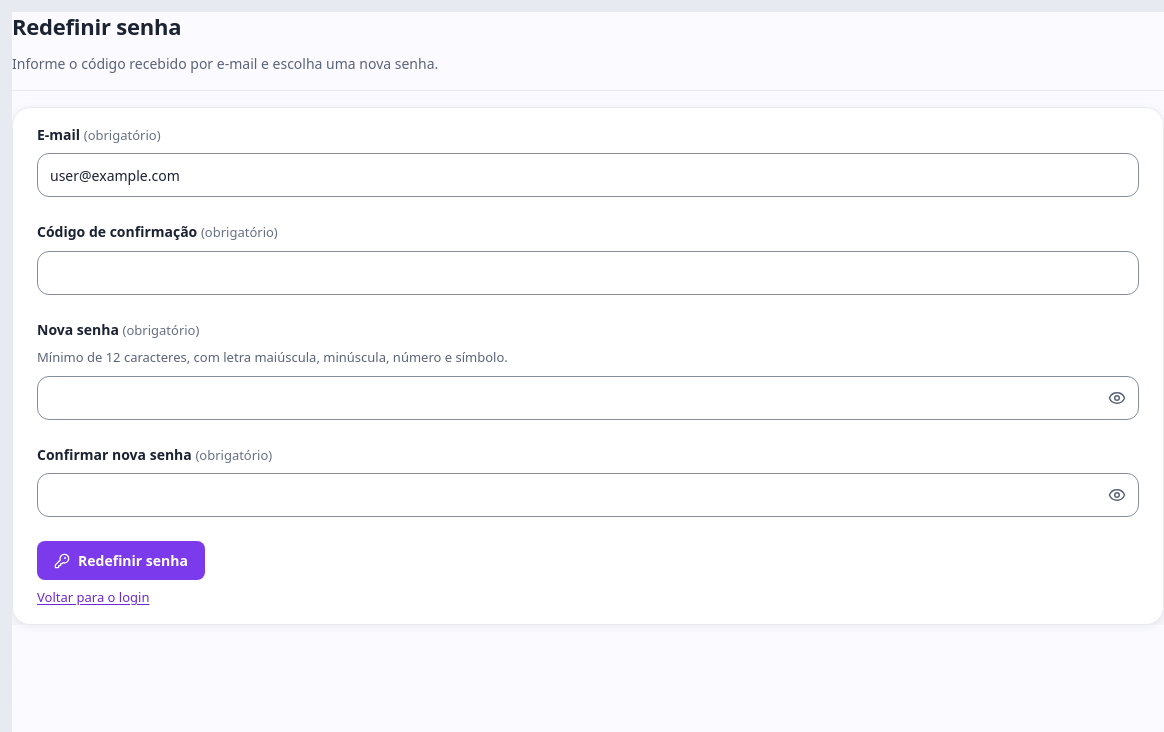
Test: ResetPassword › shows an error on an invalid/expired code or a password that fails Cognito's policy
Type "000000" into the field labelled "Código de confirmação (obrigatório)" at (588, 273), box [37,251,1139,295]
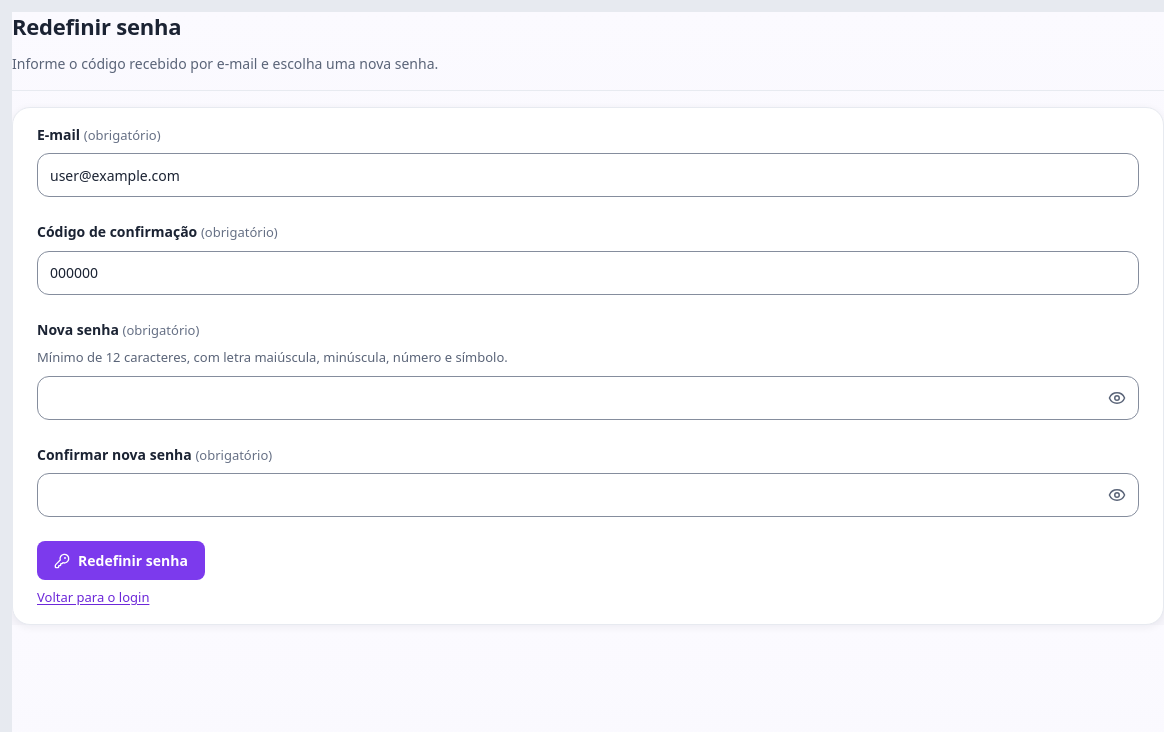
Type "weak" into the password field labelled "Nova senha (obrigatório)" at (588, 398), box [37,376,1139,420]
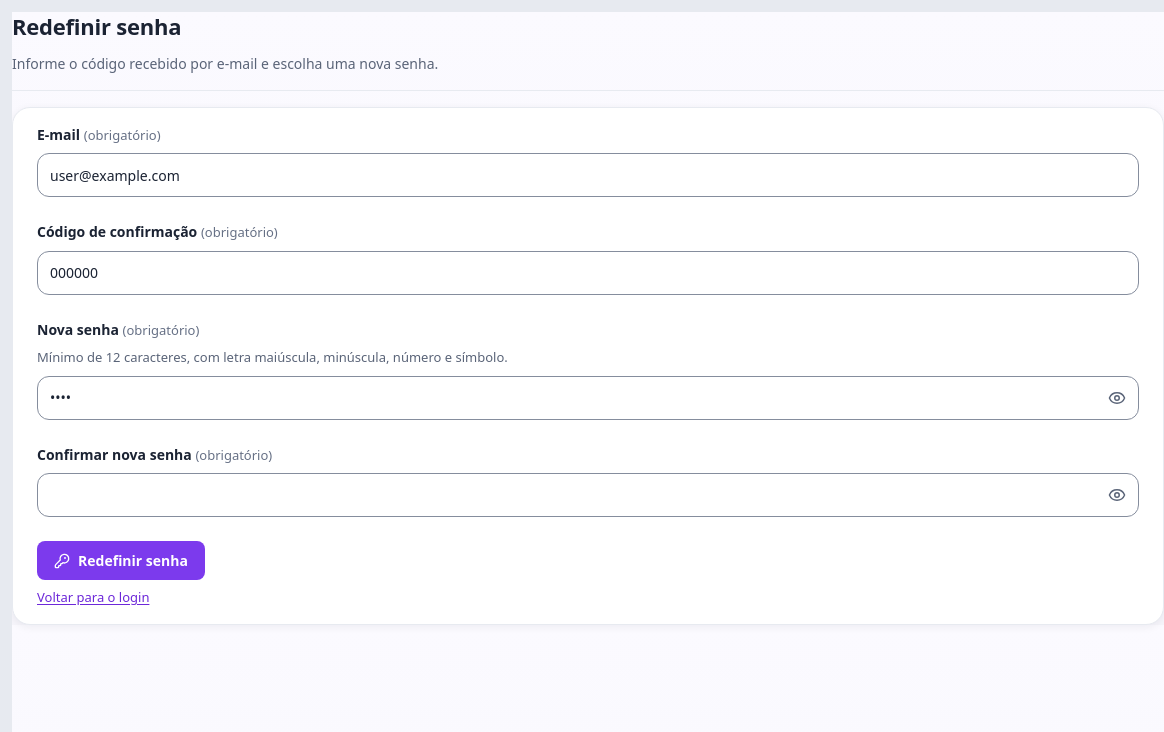
Type "weak" into the password field labelled "Confirmar nova senha (obrigatório)" at (588, 495), box [37,473,1139,517]
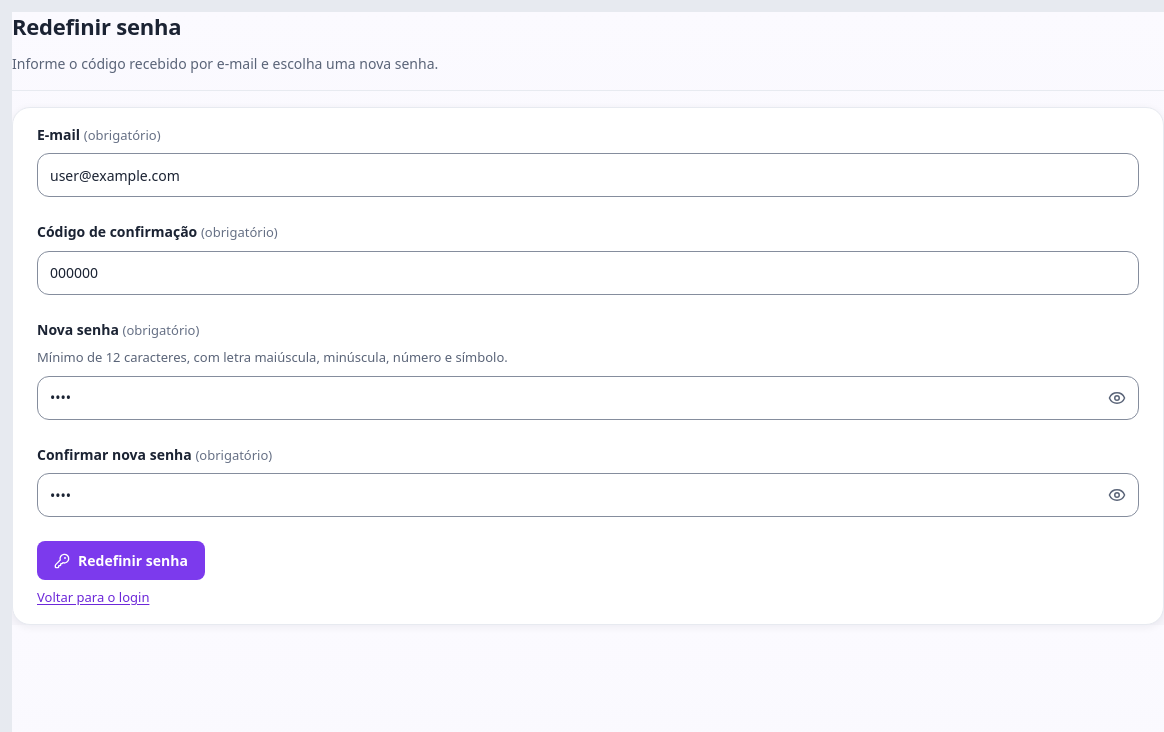
Click the button "Redefinir senha" at (121, 561), box [37,541,205,580]
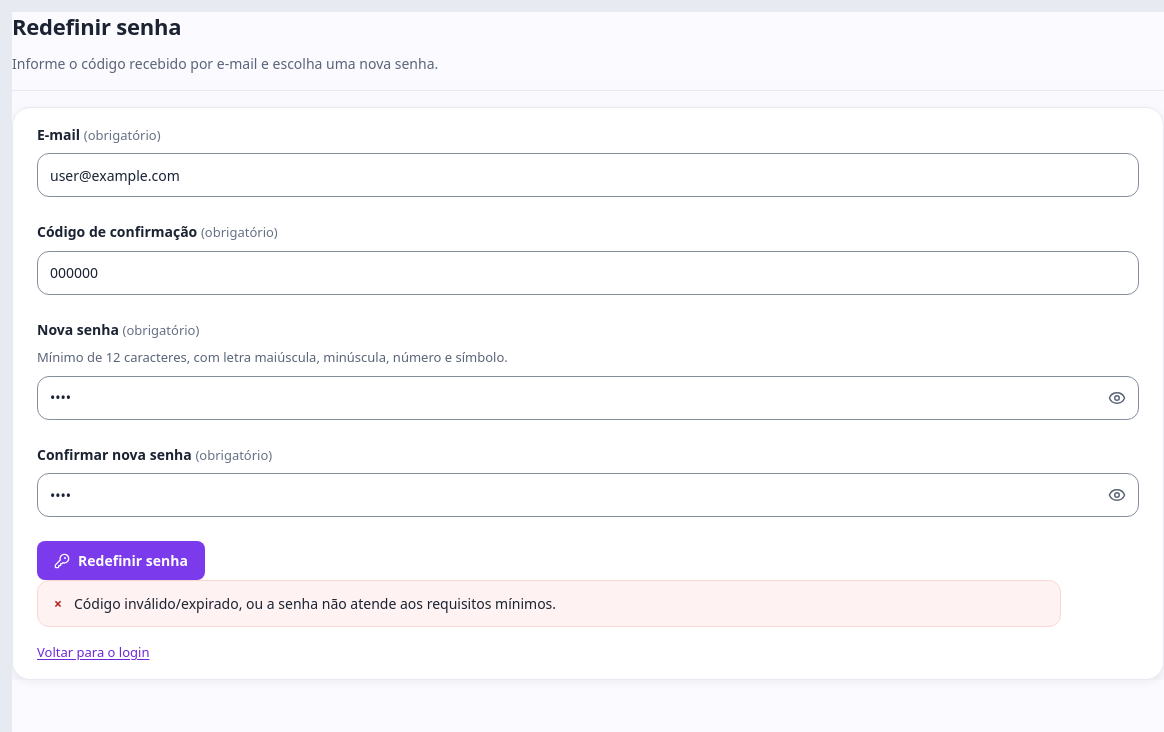
Now the text "Código inválido/expirado" is shown, box [74,594,556,613]
